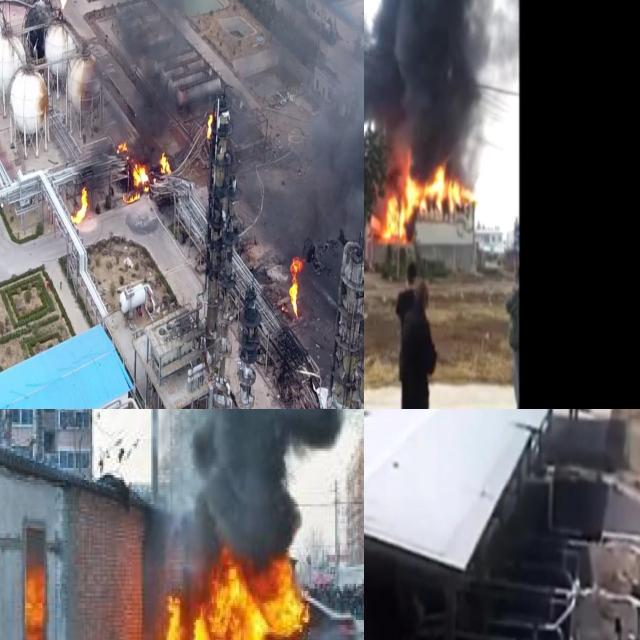fire: (132, 547, 309, 640), (372, 158, 469, 238), (23, 554, 47, 640), (120, 146, 150, 202), (286, 255, 302, 318), (70, 184, 88, 225), (158, 152, 170, 174), (204, 113, 213, 135), (57, 0, 68, 7)
smoke: (250, 0, 364, 409), (364, 0, 517, 176), (179, 409, 346, 550), (83, 0, 187, 161)
